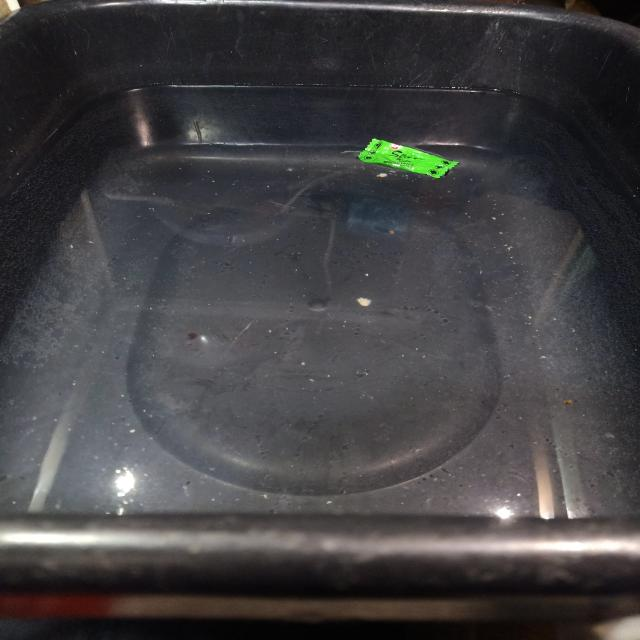Plastic Wrapper: (357, 132, 476, 194)
